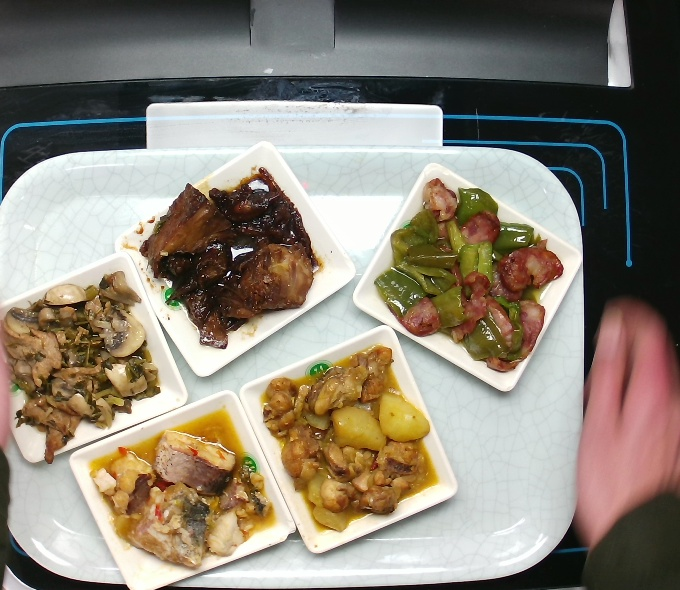wcq-DuoJiaoYuKuai: (85, 405, 282, 572)
wcq-JiangZhiYa: (137, 165, 329, 353)
wcq-MoGuRouPian: (1, 266, 166, 468)
wcq-QingJiaoXiangChang: (370, 174, 569, 378)
wcq-TuDouJiKuai: (257, 339, 446, 536)
